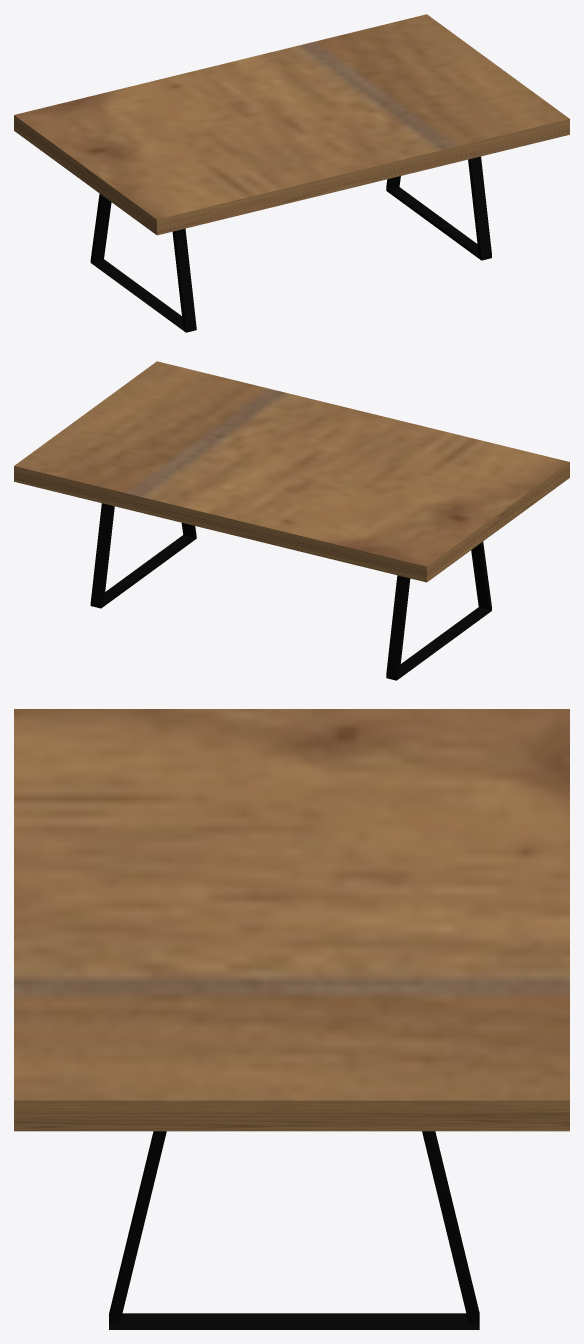
The model's file is table.fbx.
3 views of the same model, one above another, from view 1: azimuth 30°, elevation 25°; view 2: azimuth 150°, elevation 25°; view 3: azimuth 270°, elevation 25° (orthographic). The views are drawn at different scales.
Visible parts, largest first — view 1: Cube.001; view 2: Cube.001; view 3: Cube.001.
Boxes of the visible parts, left/top/right/bottom form: Cube.001: left=14, top=14, right=569, bottom=332; Cube.001: left=14, top=361, right=569, bottom=680; Cube.001: left=14, top=709, right=569, bottom=1329.
Bounding box in the file's own units: 150 × 49.99 × 90.
Materials: 2 (1 with a texture image).
